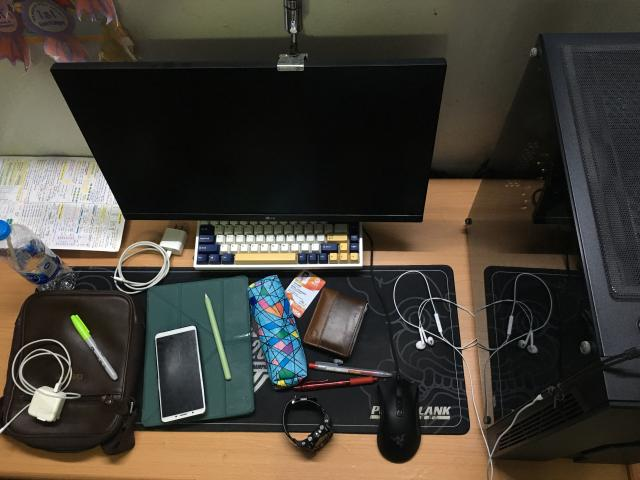Mobile phone: (155, 325, 206, 422)
Mouse: (378, 379, 421, 462)
Pen: (71, 315, 118, 380), (309, 361, 392, 378), (294, 376, 378, 391)
Wallet: (304, 288, 368, 358)
Watch: (282, 396, 332, 452)
bottle: (0, 220, 75, 290)
paper: (0, 156, 125, 251)
wire: (0, 339, 81, 434), (392, 266, 460, 350), (114, 228, 188, 294)
